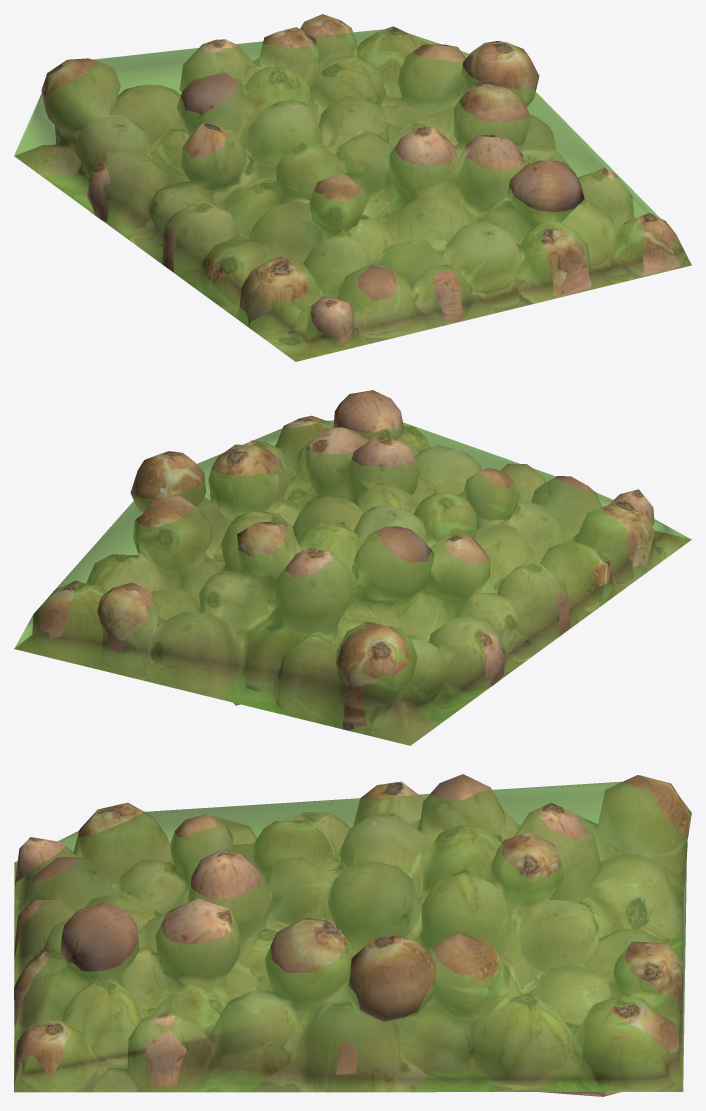
Rendered from pg_Onion_Pile_01_a.fbx.
3 renders of one model, top to bottom at view 1: azimuth 30°, elevation 25°; view 2: azimuth 150°, elevation 25°; view 3: azimuth 270°, elevation 25°, orthographic. The views are drawn at different scales.
Parts seen in each view (by area): view 1: onion_pile_01_a_LOD0, onion_pile_01_a_col; view 2: onion_pile_01_a_LOD0, onion_pile_01_a_col; view 3: onion_pile_01_a_LOD0, onion_pile_01_a_col.
Boxes of the visible parts, x1=… form: onion_pile_01_a_LOD0: x1=14, y1=14, x2=691, y2=361; onion_pile_01_a_col: x1=14, y1=29, x2=691, y2=361; onion_pile_01_a_LOD0: x1=14, y1=390, x2=691, y2=745; onion_pile_01_a_col: x1=14, y1=420, x2=691, y2=745; onion_pile_01_a_LOD0: x1=14, y1=774, x2=691, y2=1096; onion_pile_01_a_col: x1=14, y1=781, x2=686, y2=1092.
Size of what is drawn, in the model's own units: 48.02 by 16.96 by 58.62.
2 materials, 1 textured.
